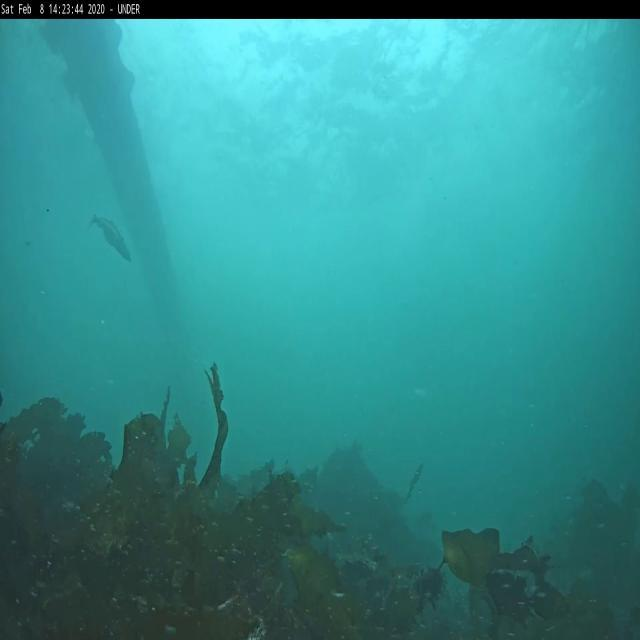fish: (90, 212, 133, 262)
